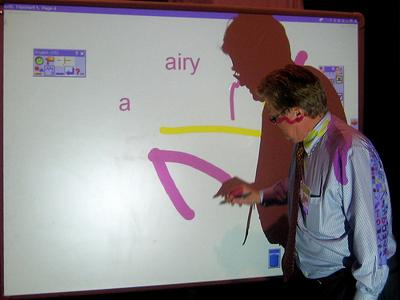person: (226, 67, 396, 298)
